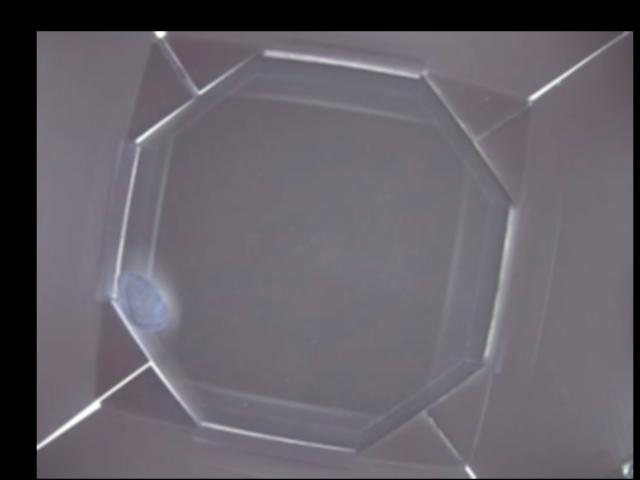Pebble: (120, 269, 170, 328)
